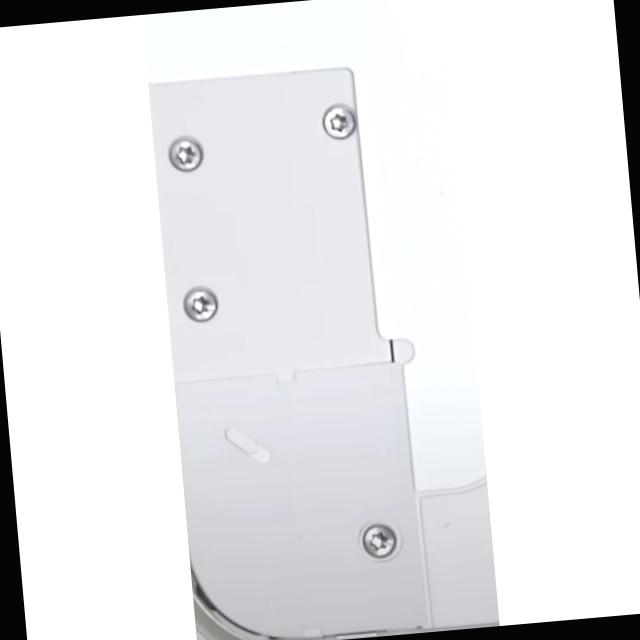Torx: (359, 520, 399, 561), (181, 284, 219, 322), (167, 134, 204, 172), (320, 102, 356, 140)
